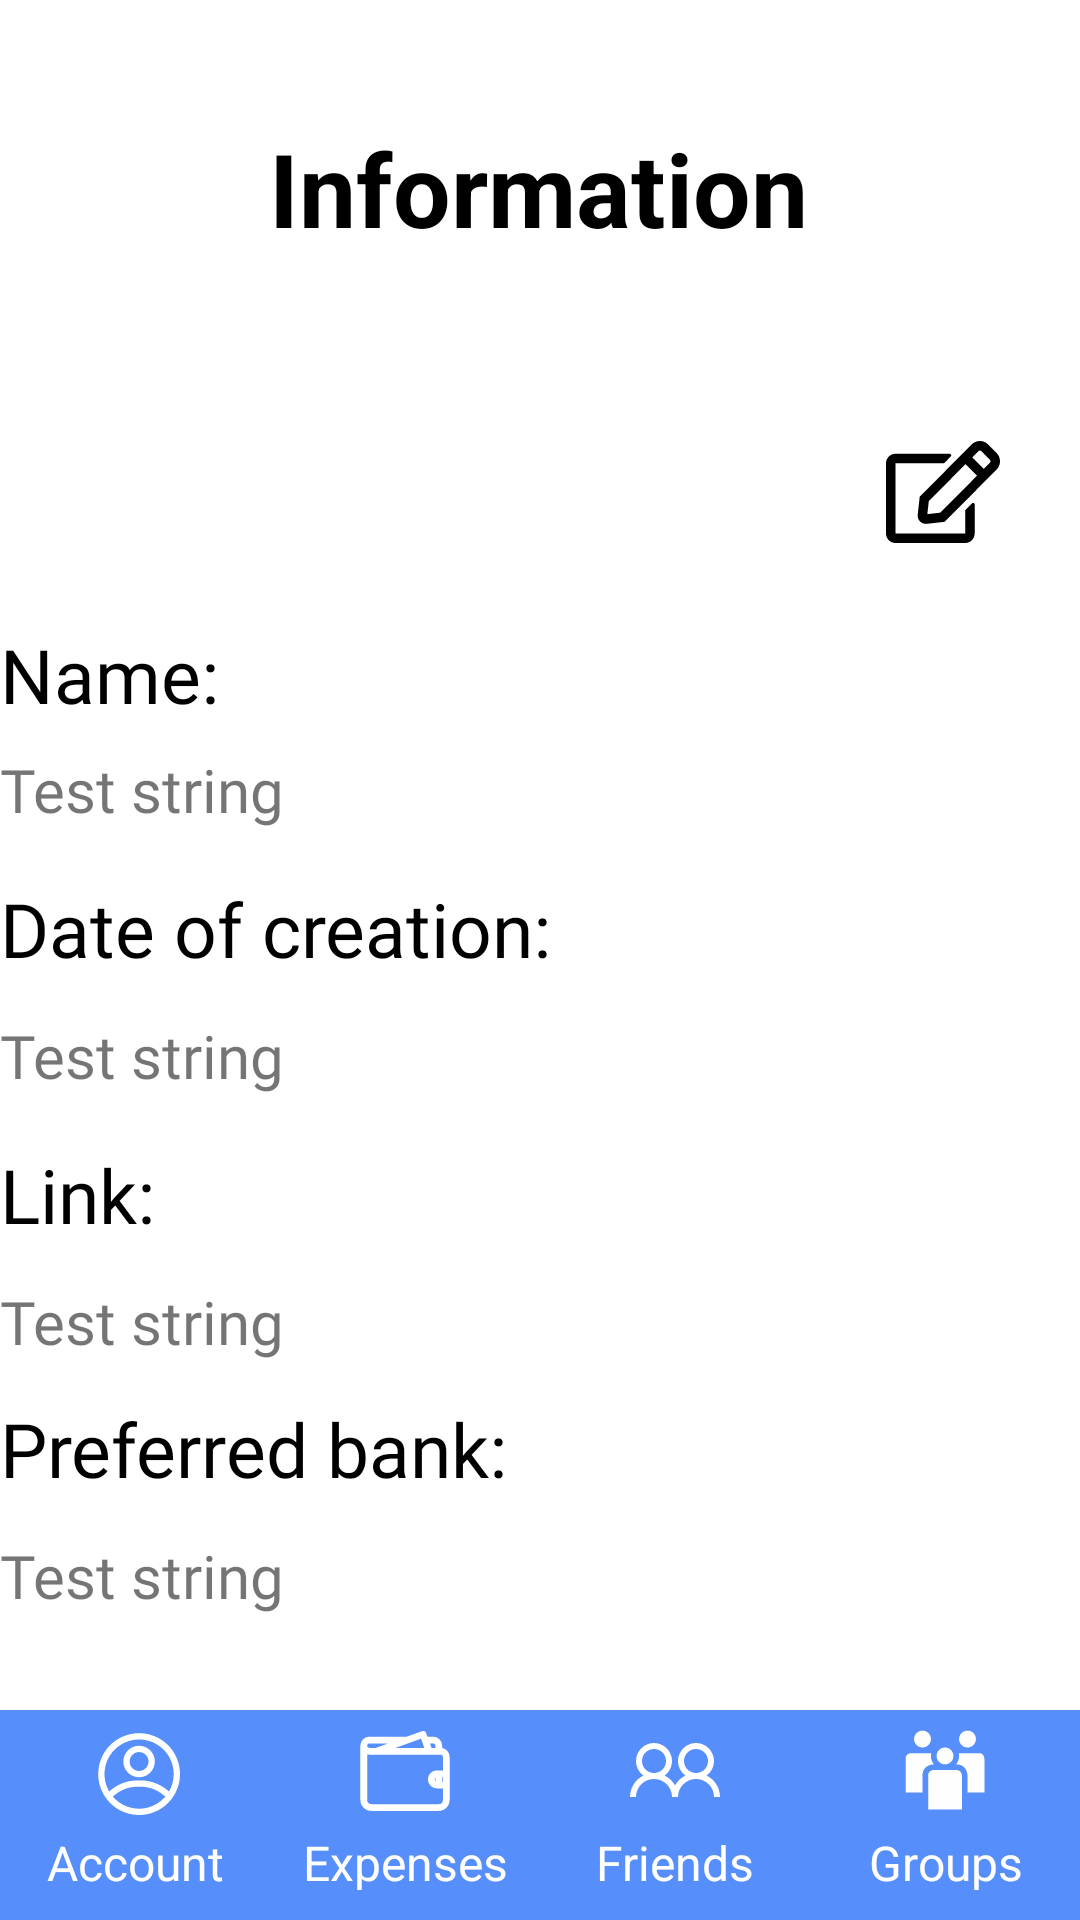

Where icons sit on this 1080px×1920px app screen, as (x1, y1, x2, y2):
edit: (886, 441, 1000, 543)
